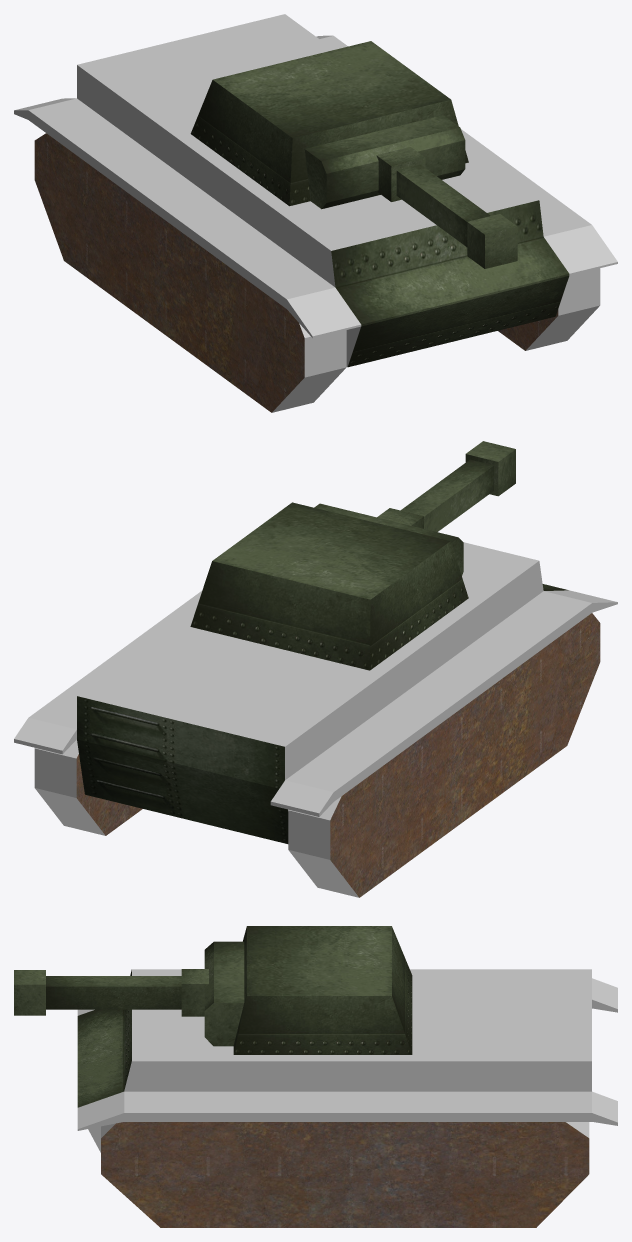
Rendered from panzer.fbx.
The picture shows the model from 3 angles, top to bottom: view 1: azimuth 30°, elevation 25°; view 2: azimuth 150°, elevation 25°; view 3: azimuth 270°, elevation 25°; orthographic projection. The views are drawn at different scales.
Visible parts, largest first — view 1: Cube; view 2: Cube; view 3: Cube.
Boxes of the visible parts, x1=… form: Cube: x1=14, y1=14, x2=617, y2=412; Cube: x1=14, y1=441, x2=617, y2=897; Cube: x1=14, y1=926, x2=617, y2=1227.
Size of the model in its own units: 440 by 833 by 307.
